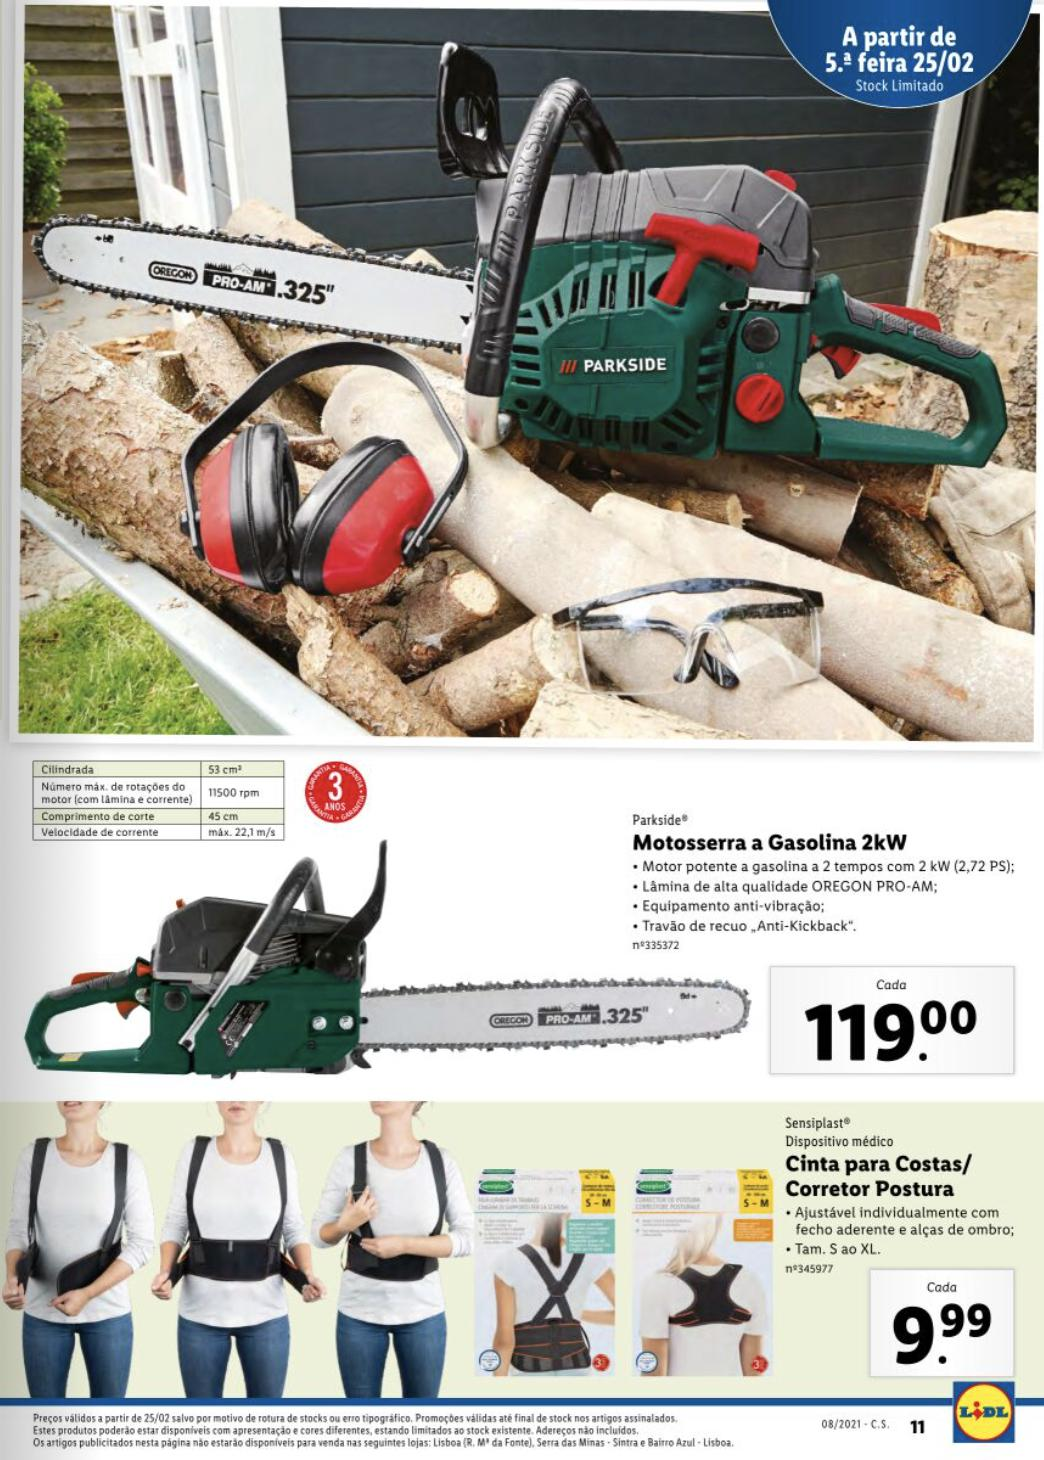name: (623, 825, 911, 862), (783, 1149, 982, 1202)
price: (792, 984, 989, 1069), (885, 1289, 994, 1371)
product: (7, 749, 1032, 1102), (11, 1113, 1030, 1389)
